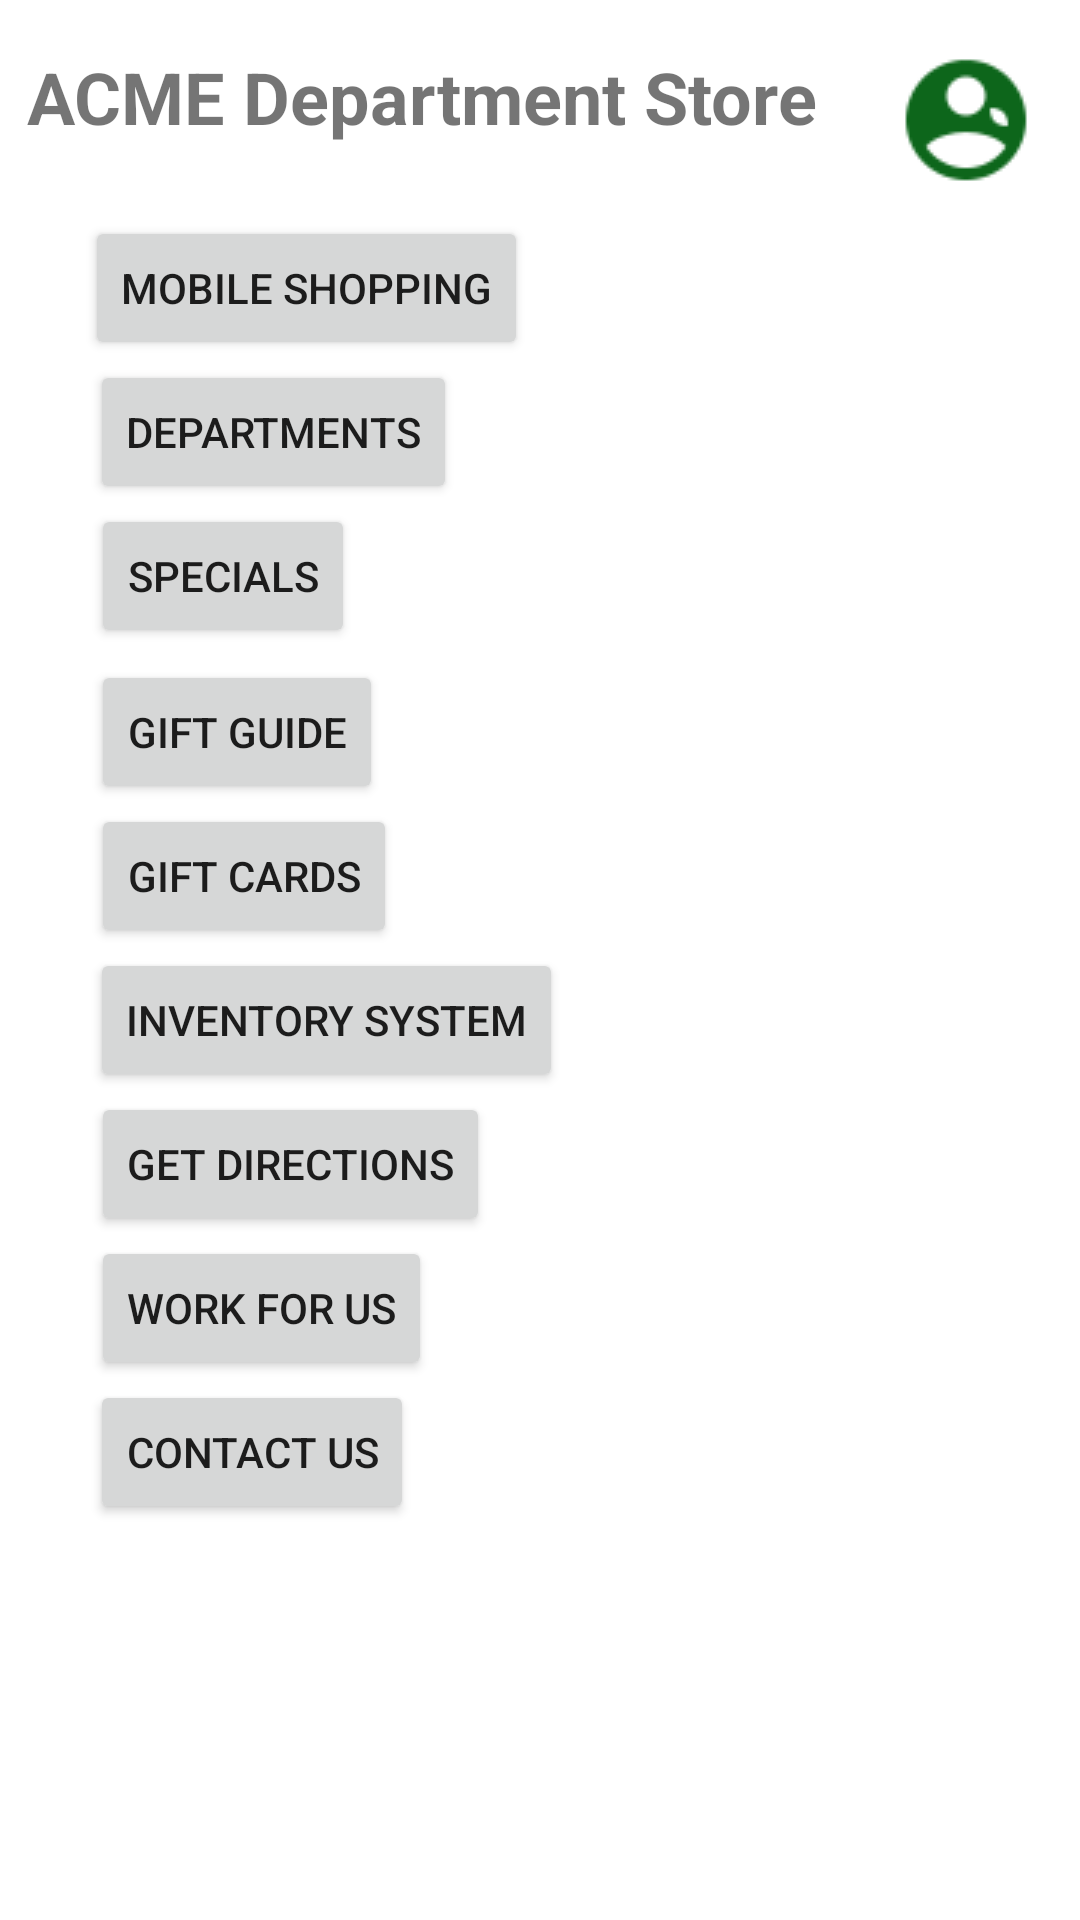

Screen size 1080 × 1920. Icon name, then its center in pixels as point (x, y):
userprofile: point (966, 120)
